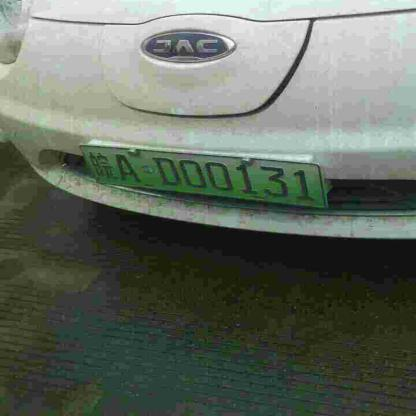lp: (80, 145, 325, 206)
